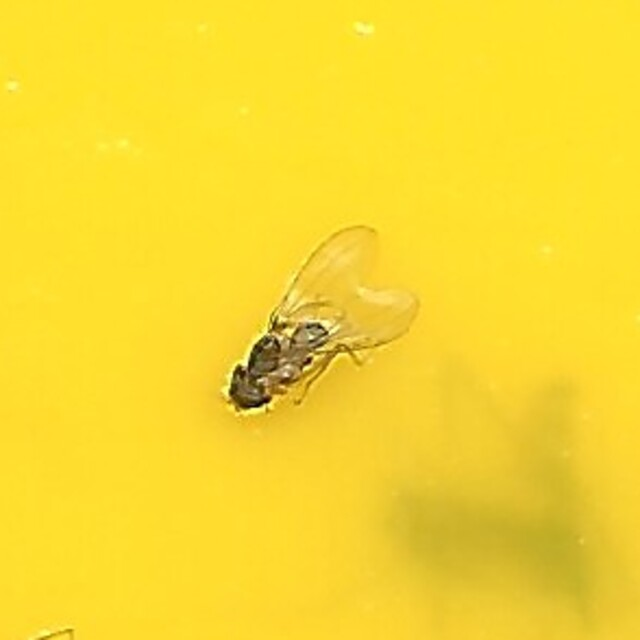Brachycera: (218, 219, 422, 421)
